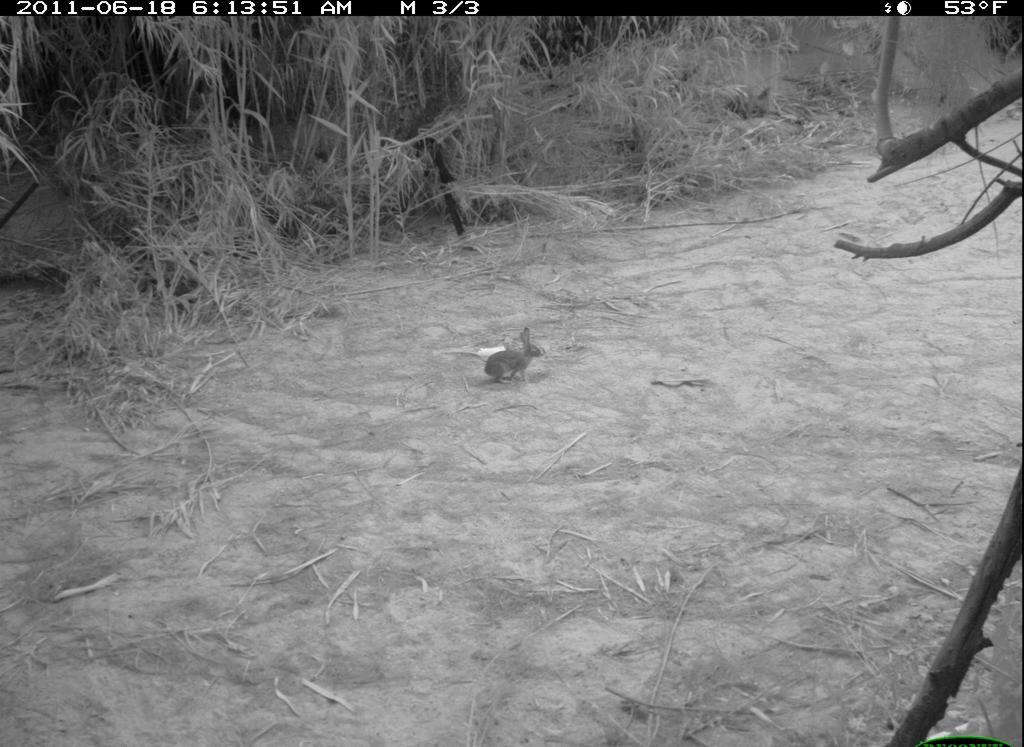rabbit: (486, 324, 552, 396)
